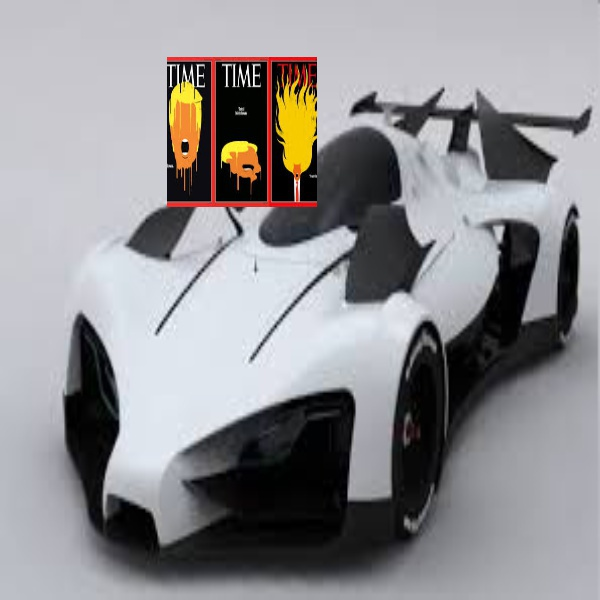time_cover: (220, 57, 266, 202), (166, 56, 210, 205), (276, 58, 319, 210)
